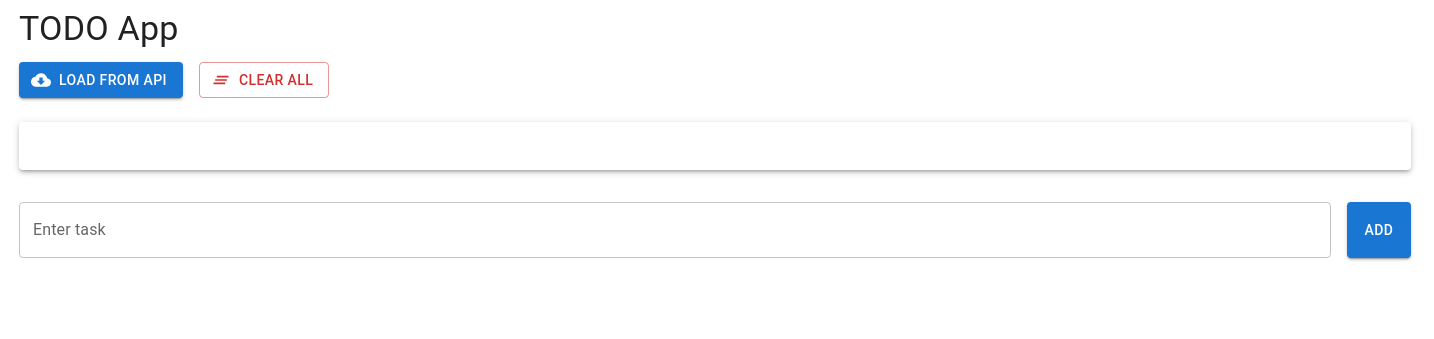
Test case: TODO App › shows validation error when trying to submit empty input
Click the button "Add" at [1379, 230], box [1347,202,1411,258]
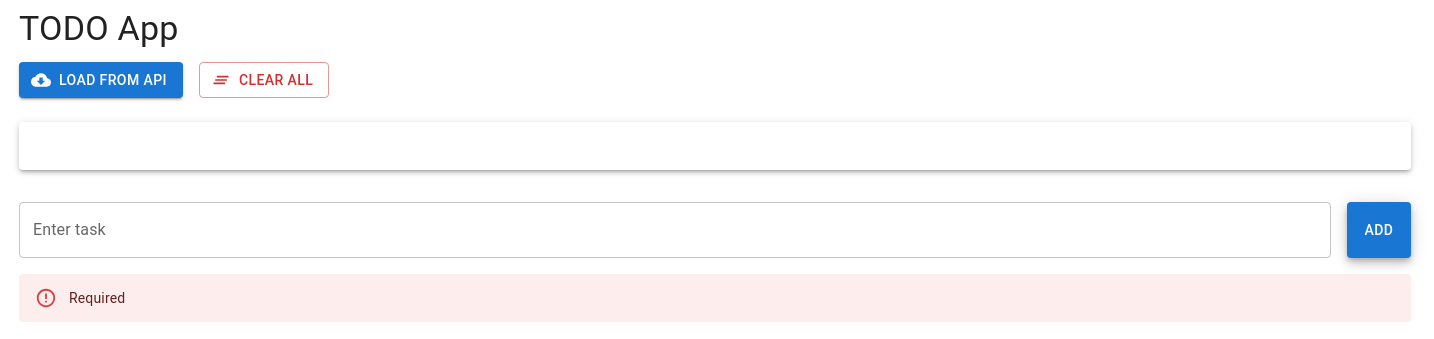
Now the text "Required" is shown, box [69,290,125,306]
